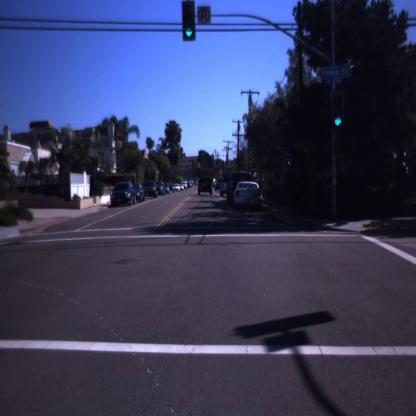trafficlight: (330, 92, 346, 134), (181, 0, 197, 42)
